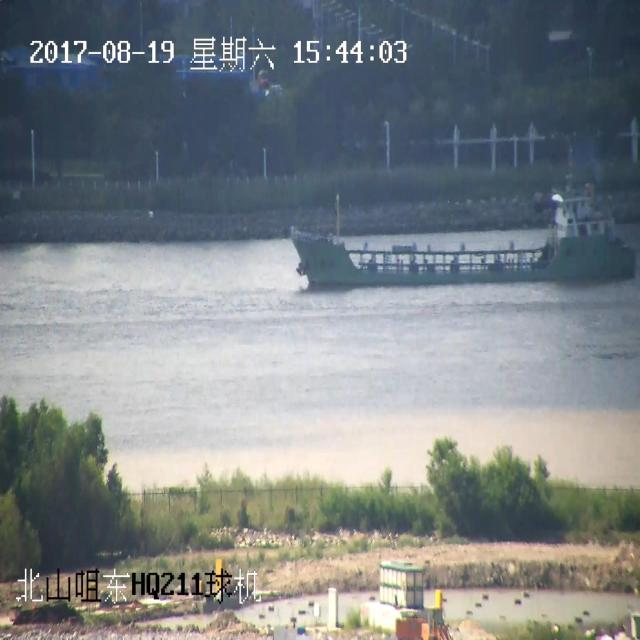houseboat: (208, 154, 632, 307)
